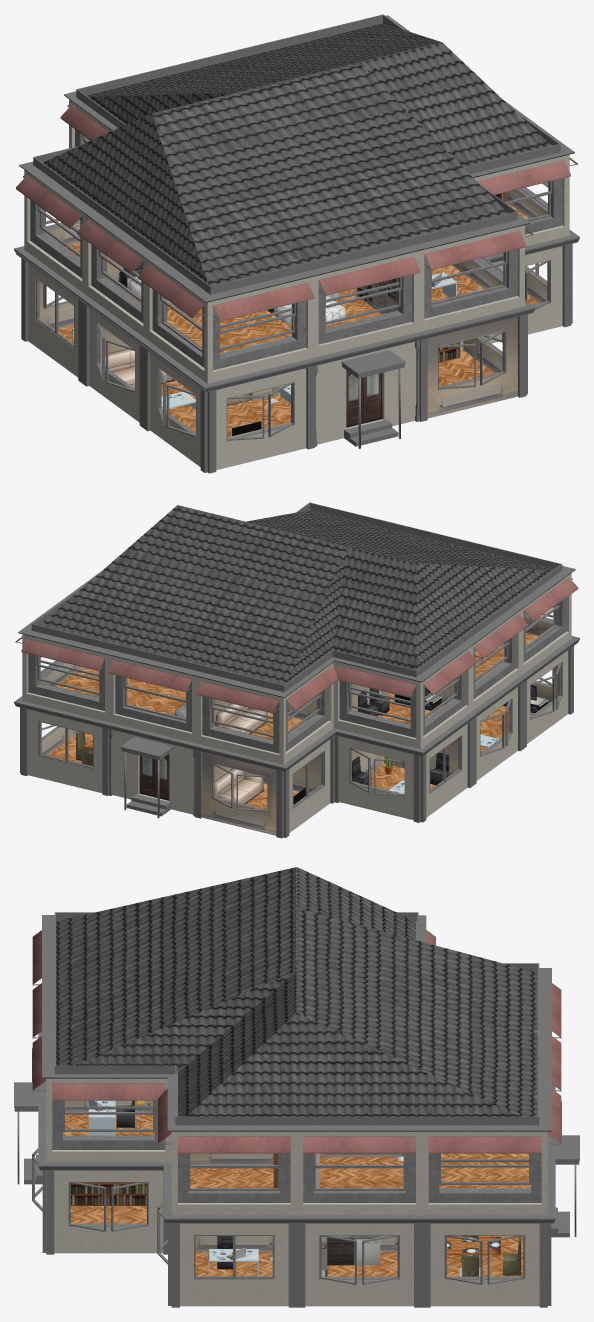
File: Building_2stores_DoubleHouse.obj
3 views of the same model, one above another, from view 1: azimuth 30°, elevation 25°; view 2: azimuth 150°, elevation 25°; view 3: azimuth 270°, elevation 25° (orthographic). The views are drawn at different scales.
Visible parts, largest first — view 1: Building_2stores_DoubleHouse; view 2: Building_2stores_DoubleHouse; view 3: Building_2stores_DoubleHouse.
Boxes of the visible parts, x1,y1,x2,y2 form: Building_2stores_DoubleHouse: [14, 14, 579, 473]; Building_2stores_DoubleHouse: [14, 502, 579, 838]; Building_2stores_DoubleHouse: [14, 867, 579, 1307].
Size of the model in its own units: 5.55 by 3 by 5.92.
Materials: 10 (10 with a texture image).
